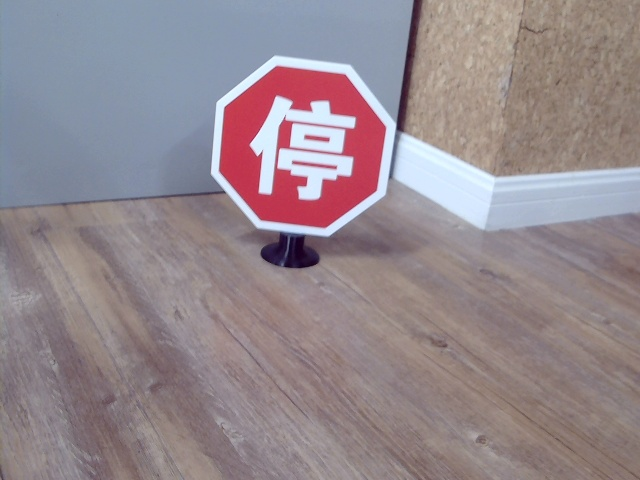stop: (248, 93, 355, 200)
